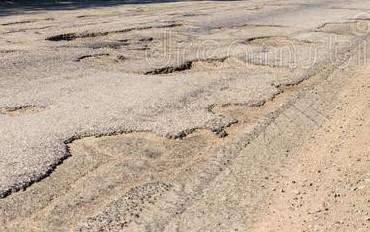pothole: (9, 12, 370, 224)
